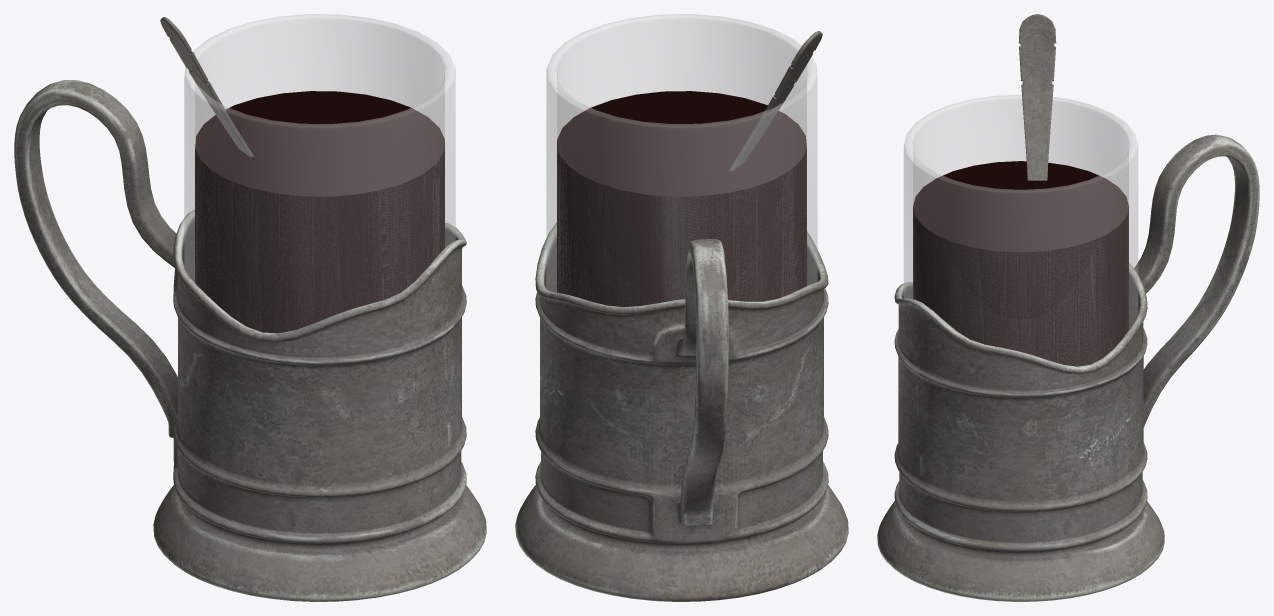
Rendered from cup_holder.glb.
3 renders of one model, left to right at view 1: azimuth 30°, elevation 25°; view 2: azimuth 150°, elevation 25°; view 3: azimuth 270°, elevation 25°, orthographic. The views are drawn at different scales.
Visible parts, largest first — view 1: Object_2, Object_3, Object_5, Object_4; view 2: Object_2, Object_3, Object_5, Object_4; view 3: Object_2, Object_3, Object_5, Object_4.
Boxes of the visible parts, bbox=[...] form: Object_2: bbox=[14, 80, 486, 601]; Object_3: bbox=[184, 14, 455, 332]; Object_5: bbox=[195, 91, 444, 333]; Object_4: bbox=[160, 17, 253, 156]; Object_2: bbox=[515, 222, 848, 601]; Object_3: bbox=[546, 14, 817, 306]; Object_5: bbox=[557, 91, 806, 306]; Object_4: bbox=[729, 31, 822, 170]; Object_2: bbox=[877, 134, 1259, 601]; Object_3: bbox=[904, 95, 1137, 366]; Object_5: bbox=[913, 161, 1128, 366]; Object_4: bbox=[1018, 14, 1056, 180].
Size of the model in its own units: 2.49 by 4.03 by 2.98.
4 materials, 2 textured.
